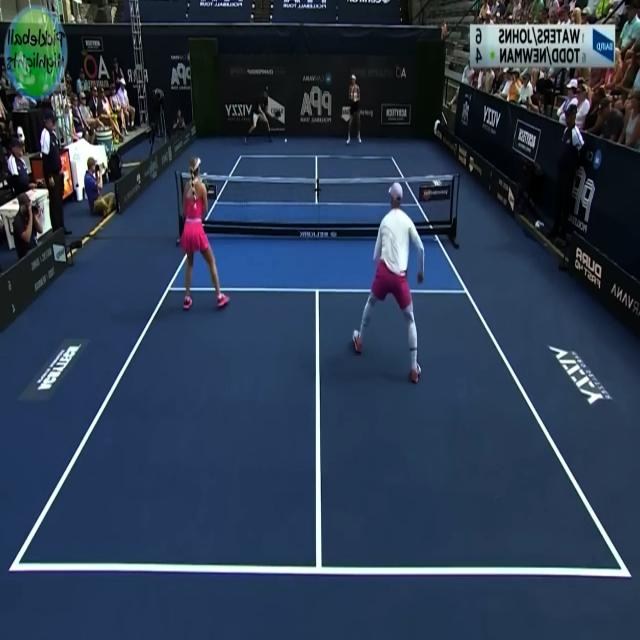Pickleball: (284, 136, 288, 145)
